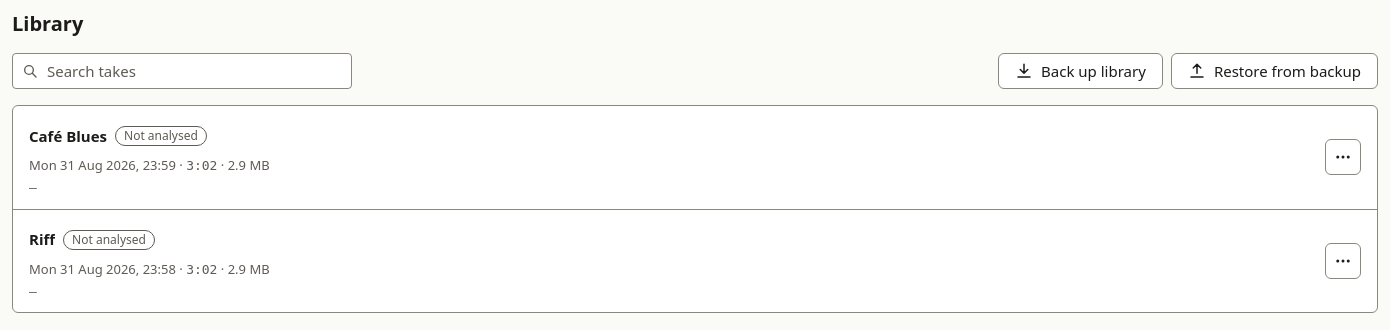
Test: search › no match: the sentence and Clear search, which empties and focuses the field
The width and height of the screenshot is (1390, 330).
Step 1. Type "zzz" into the search field labelled "Search takes" → (182, 71), box [12,53,352,89]
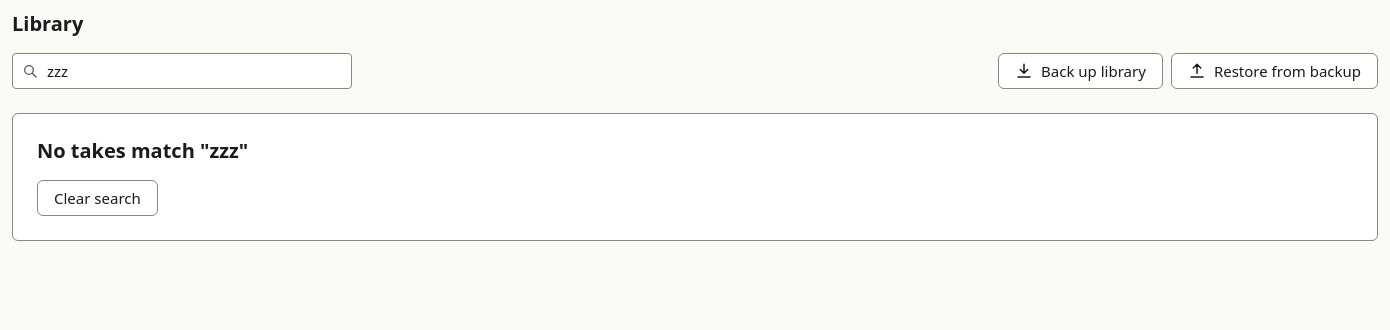
Result: the list is gone
Result: the heading "No takes match \"zzz\"" is shown at [37,137,248,164]
Step 2. Click the button "Clear search" → (97, 198), box [37,180,158,216]
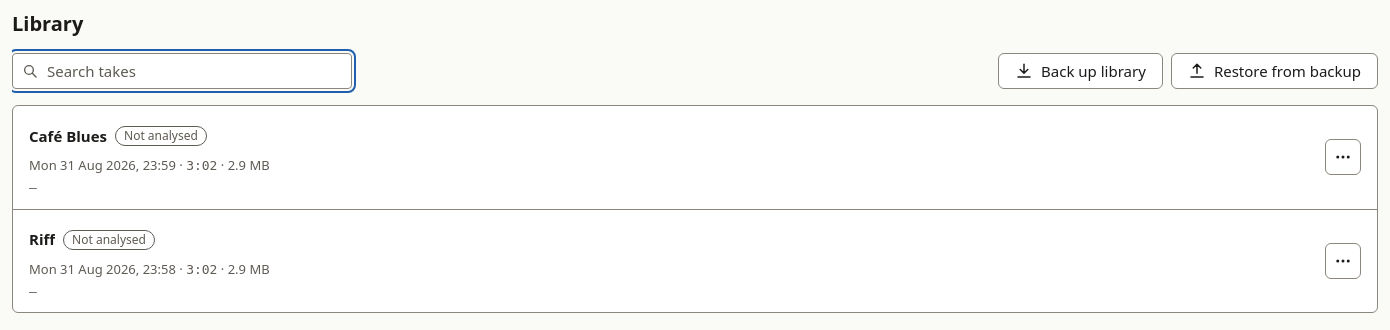
Result: the search field labelled "Search takes" is empty at [12,53,352,89]
